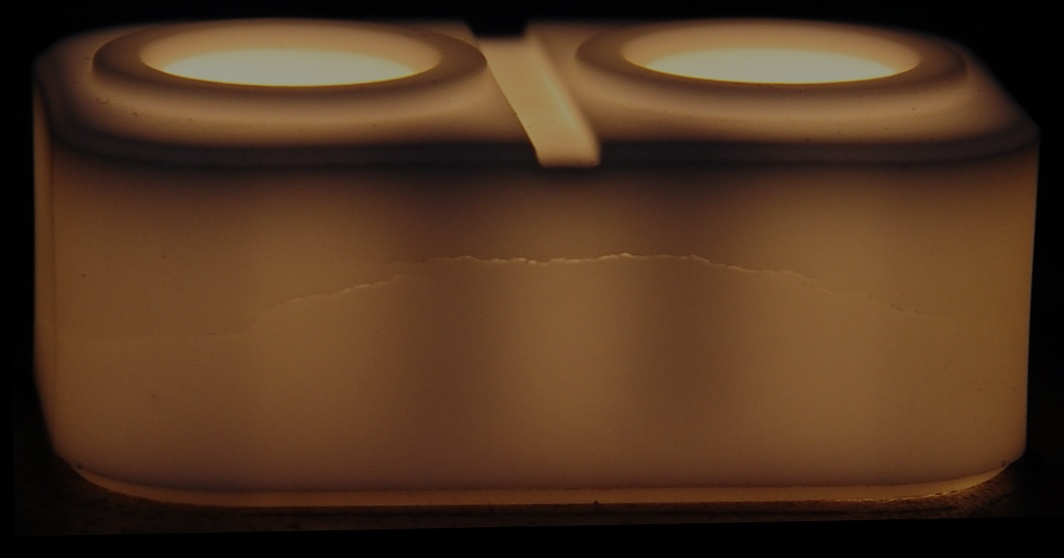flaw: (66, 242, 939, 362)
